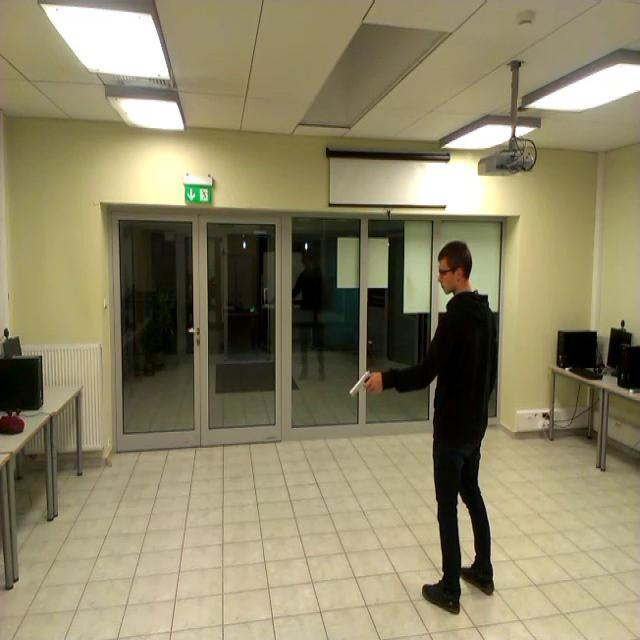weapon: (348, 373, 377, 398)
